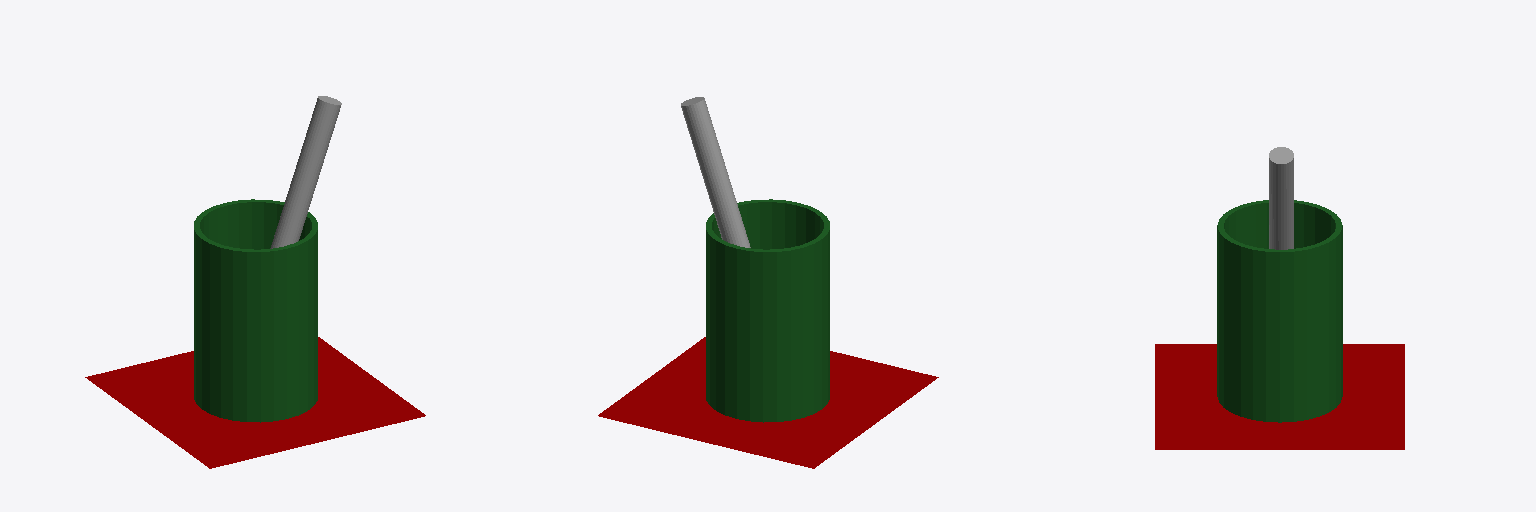
Rendered from glass_smooth.obj.
3 renders of one model, left to right at view 1: azimuth 30°, elevation 25°; view 2: azimuth 150°, elevation 25°; view 3: azimuth 270°, elevation 25°, orthographic.
Visible parts, largest first — view 1: Cylinder.001, Plane, Cylinder.002_Cylinder.003; view 2: Cylinder.001, Plane, Cylinder.002_Cylinder.003; view 3: Cylinder.001, Plane, Cylinder.002_Cylinder.003.
Part boxes in pixels (left/top/right/bottom): Cylinder.001: left=194, top=199, right=317, bottom=422; Plane: left=85, top=337, right=425, bottom=468; Cylinder.002_Cylinder.003: left=270, top=96, right=341, bottom=248; Cylinder.001: left=706, top=199, right=829, bottom=422; Plane: left=598, top=337, right=938, bottom=468; Cylinder.002_Cylinder.003: left=681, top=97, right=750, bottom=247; Cylinder.001: left=1217, top=200, right=1342, bottom=422; Plane: left=1155, top=344, right=1404, bottom=449; Cylinder.002_Cylinder.003: left=1269, top=147, right=1293, bottom=249.
Size of the model in its own units: 4 by 4.96 by 4.